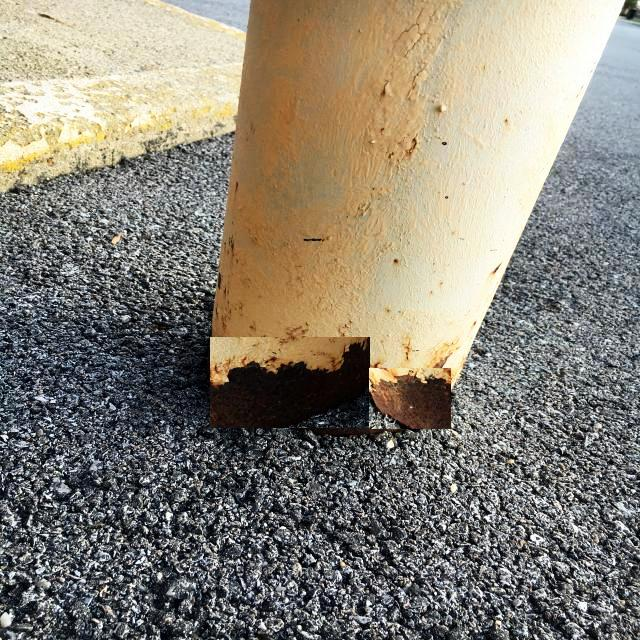Corrosion: (210, 348, 369, 428), (371, 376, 452, 430)
